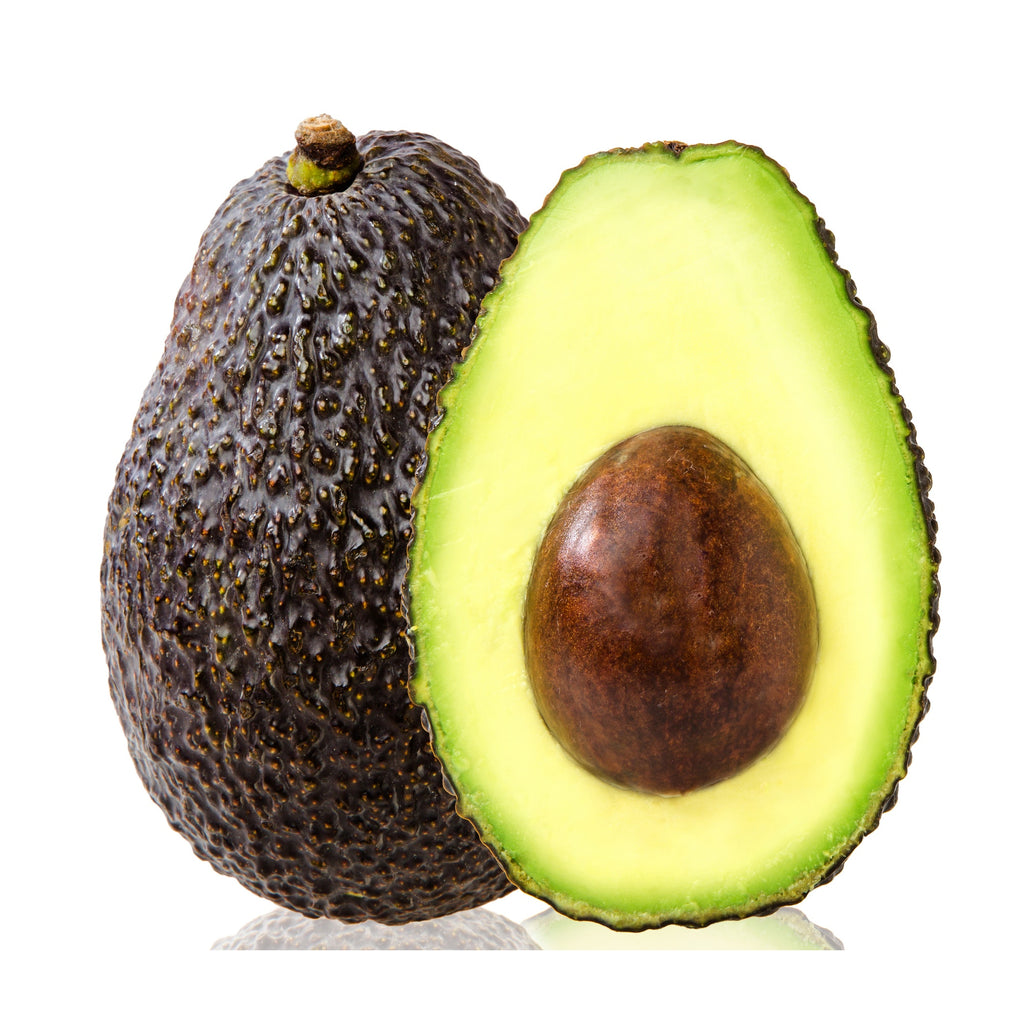Avacado: (418, 132, 935, 942), (125, 105, 537, 938)
